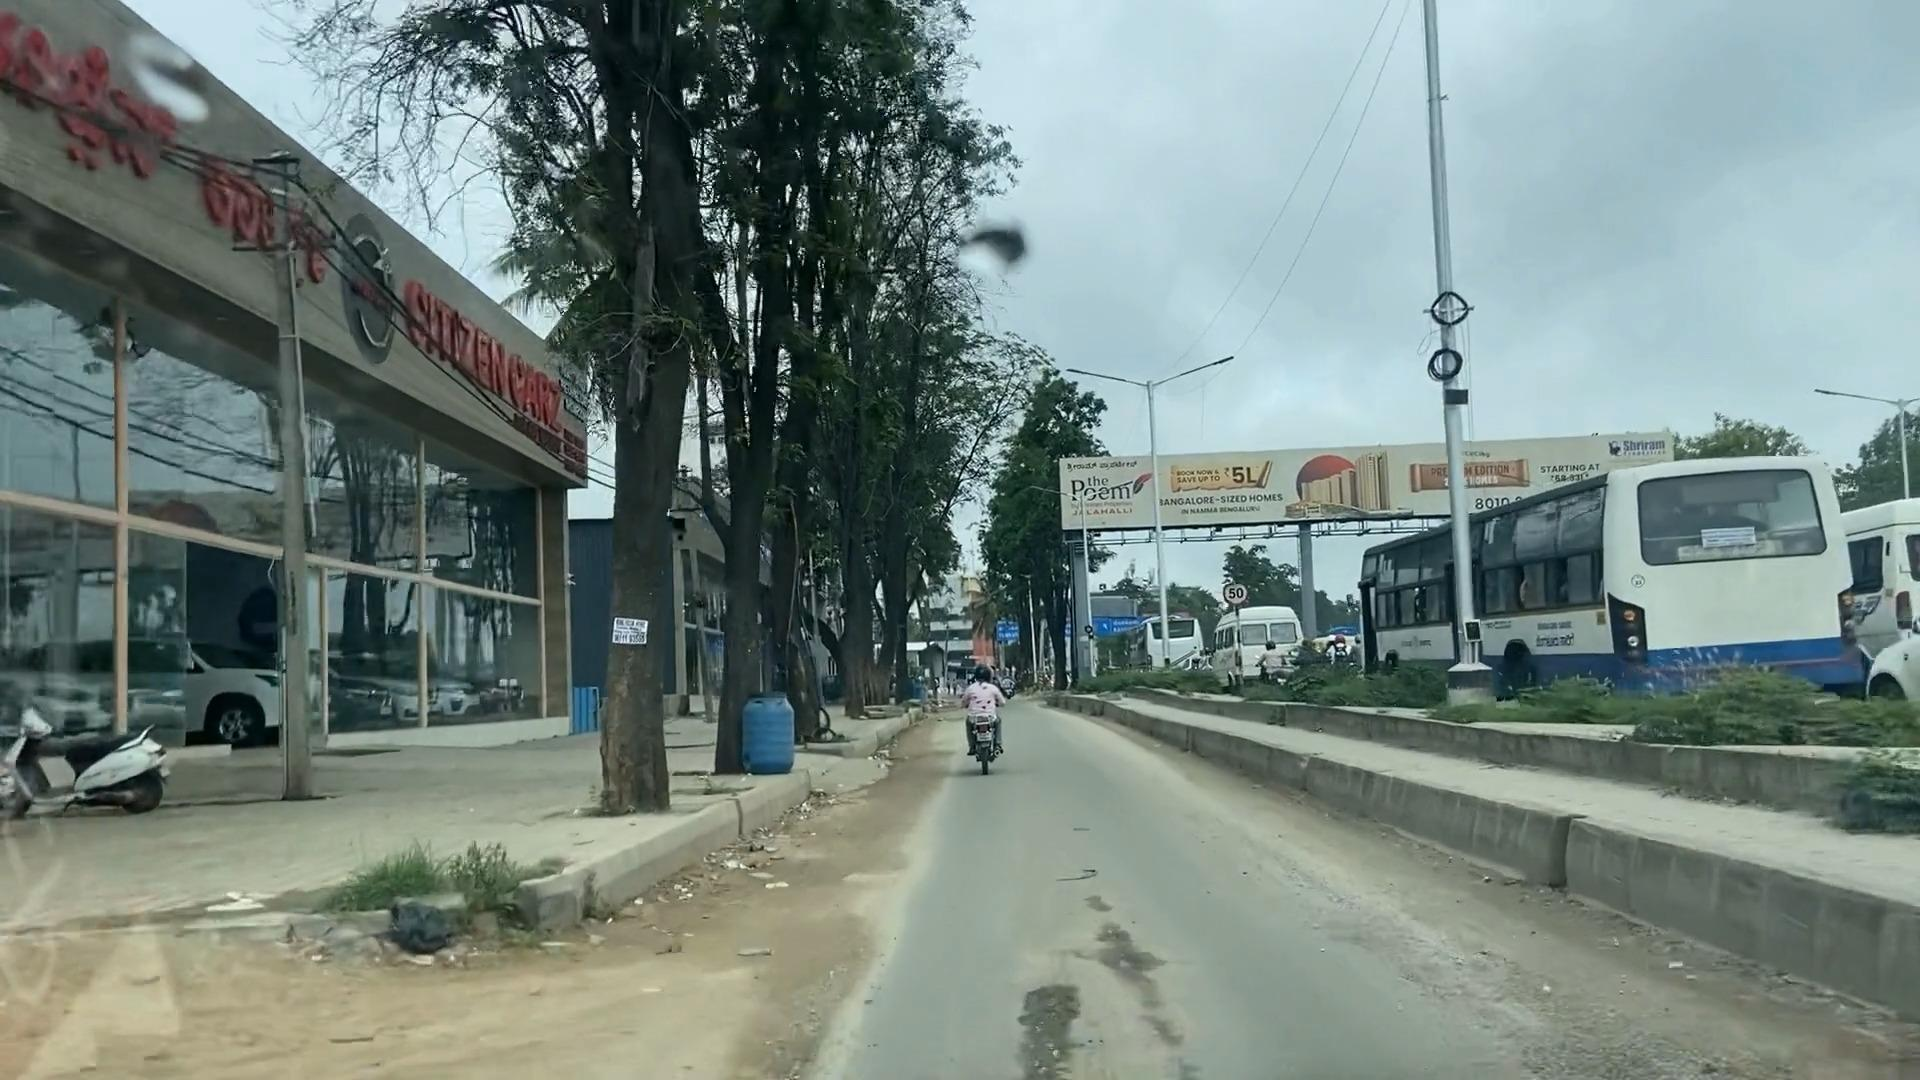RoadDamages: (1063, 899, 1187, 1000), (1006, 960, 1105, 1077)
